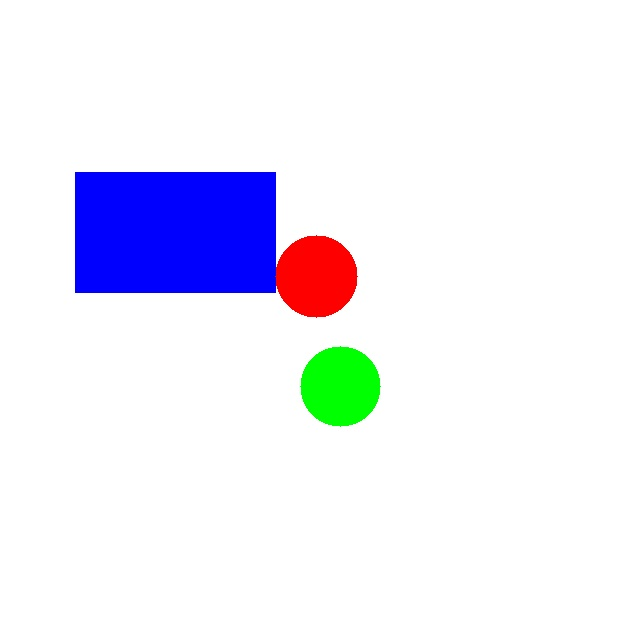cartao: (75, 172, 275, 292)
rosca_externa: (300, 346, 380, 426)
rosca_interna: (275, 235, 357, 317)
